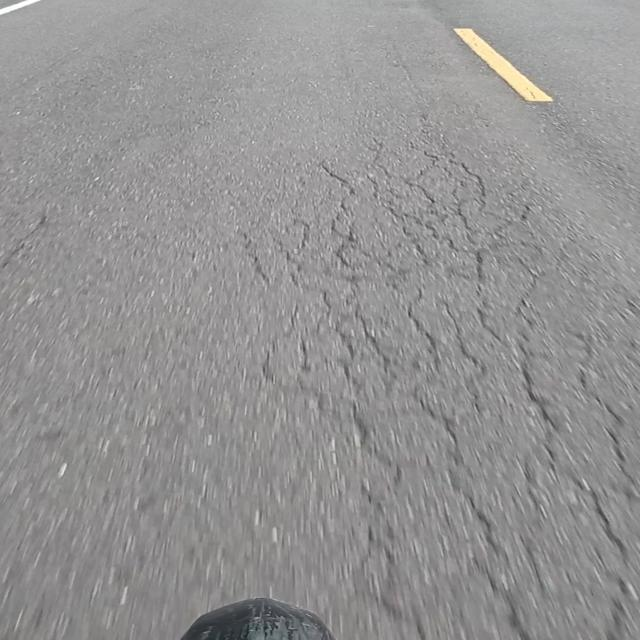Retak Buaya: (242, 133, 605, 599)
